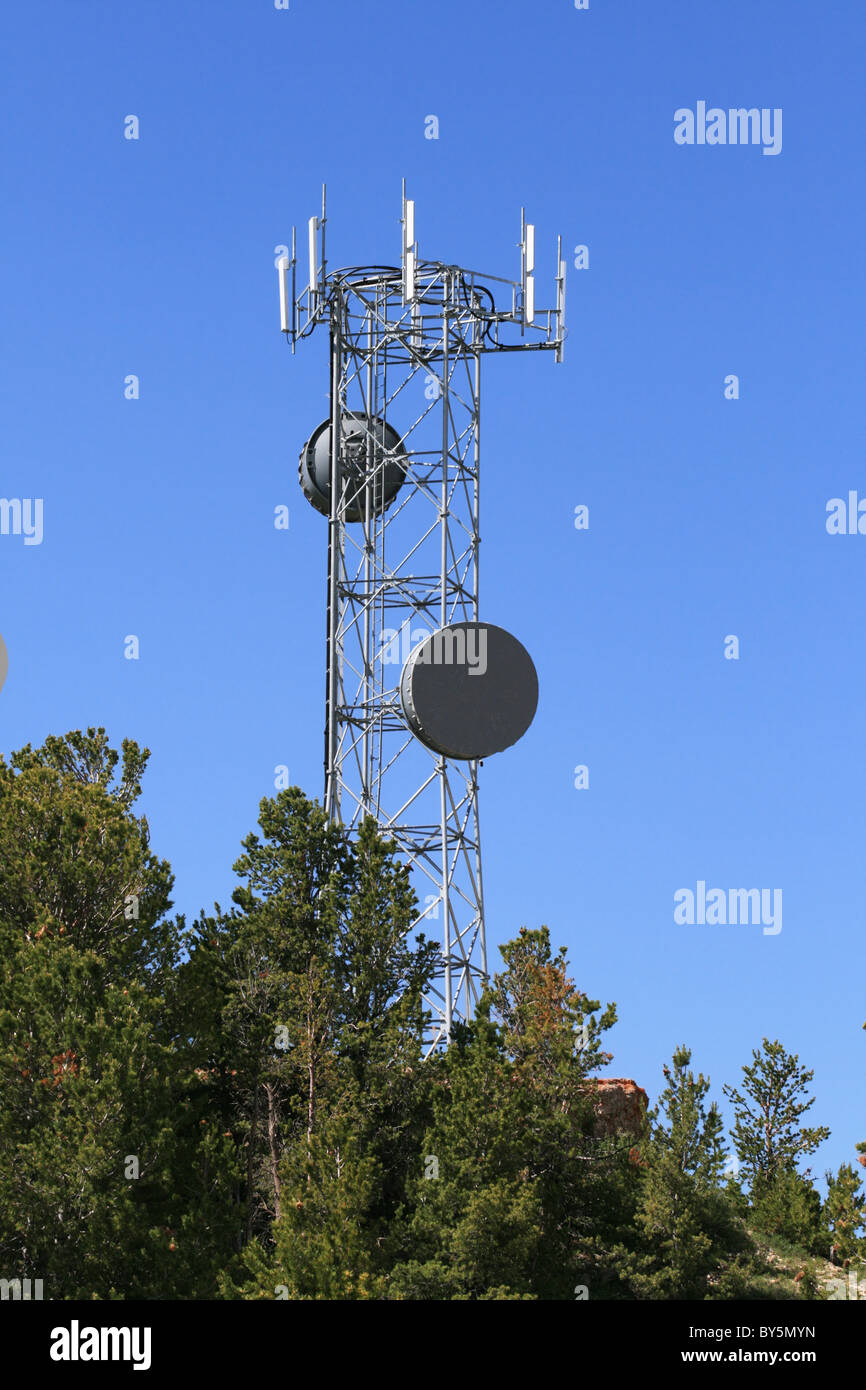ba: (398, 586, 554, 786), (288, 394, 410, 543)
sa: (503, 183, 549, 346), (391, 186, 438, 310), (261, 233, 303, 353), (556, 236, 580, 360)
